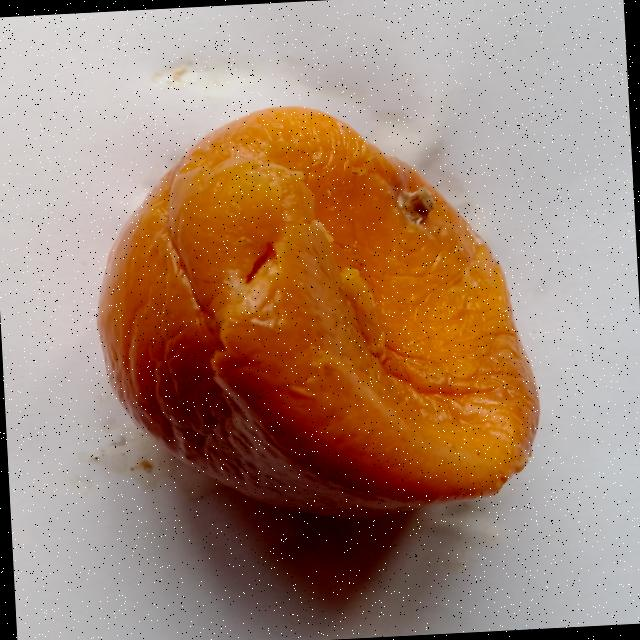Rotten: (81, 90, 544, 531)
